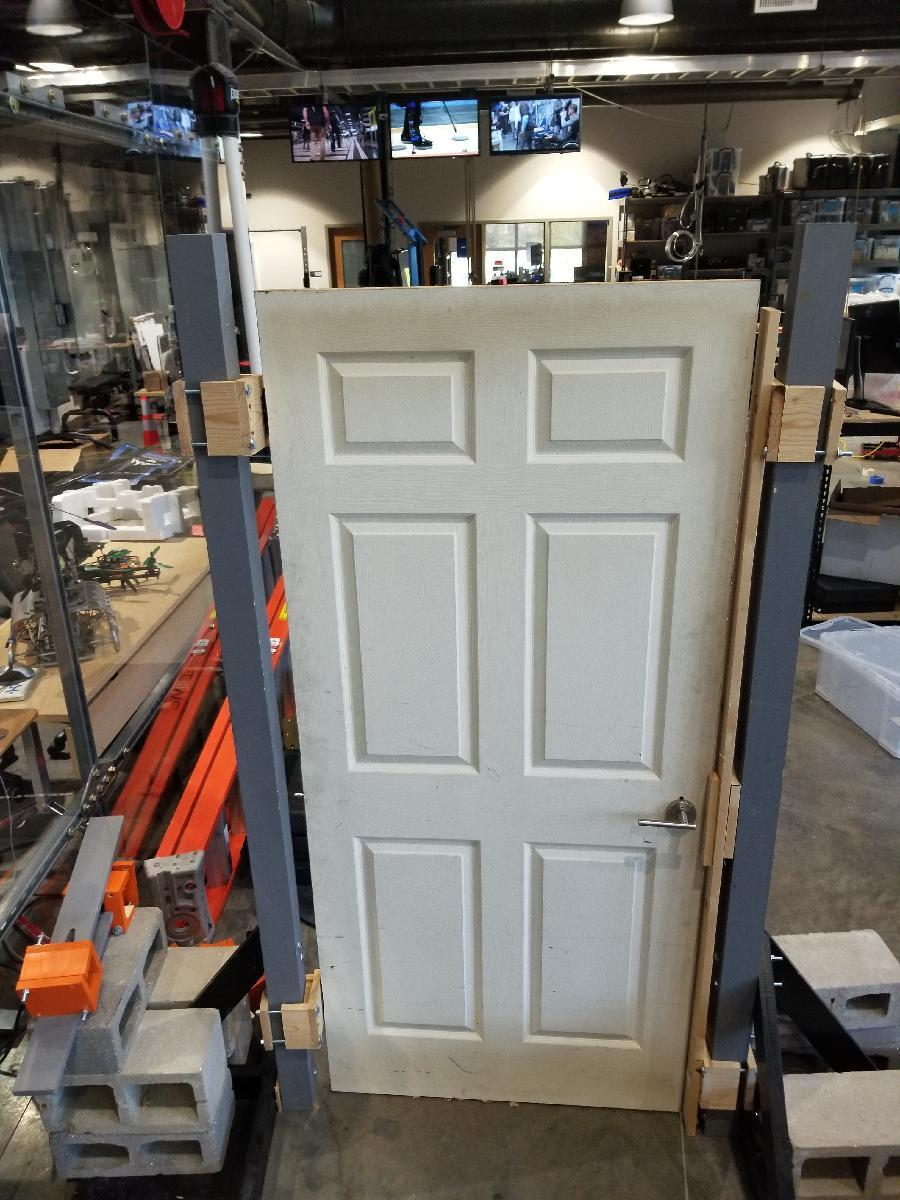door: (266, 296, 709, 1112)
handle: (636, 797, 702, 836)
